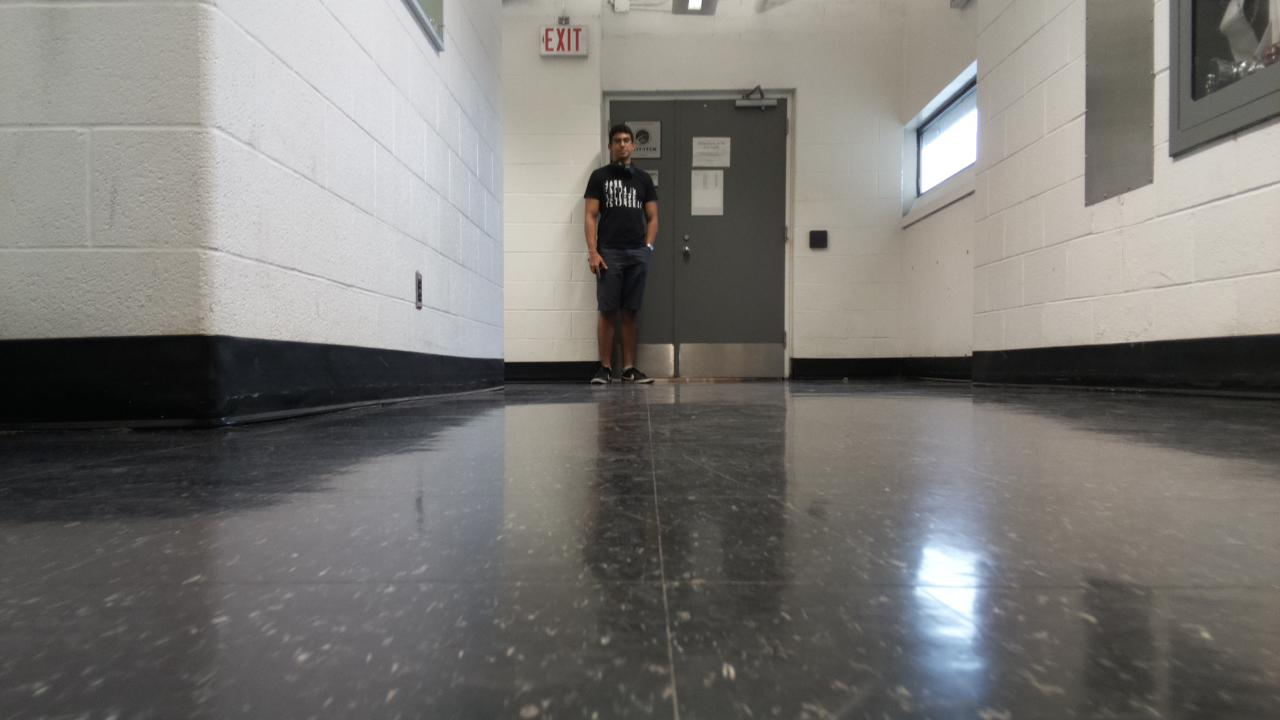door: (611, 99, 784, 379)
person: (581, 123, 660, 386)
sign: (540, 26, 586, 55)
